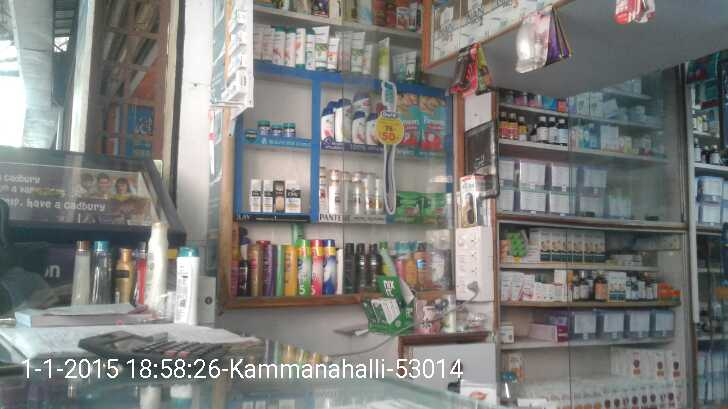vicks: (284, 122, 297, 138), (258, 119, 271, 135), (272, 124, 284, 138)
